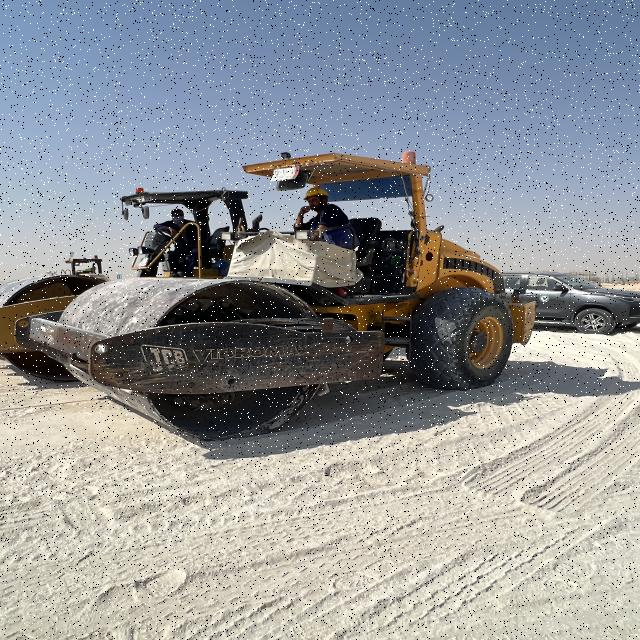Roller: (15, 145, 533, 447), (1, 232, 102, 393)
